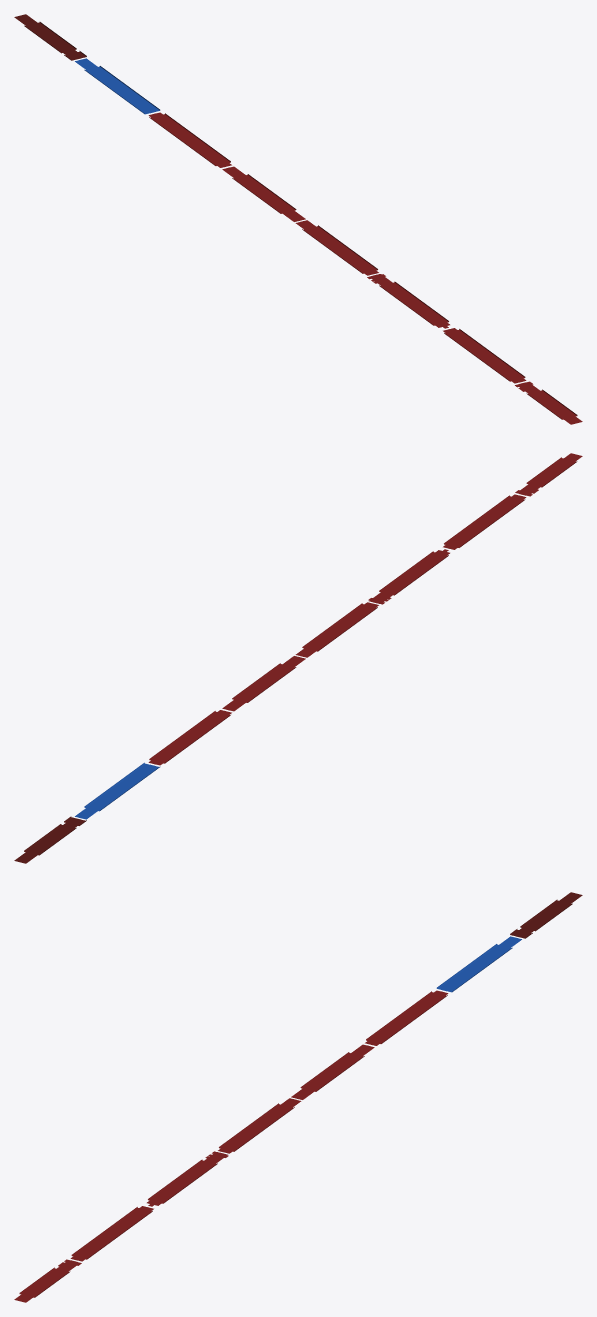
The model's file is demo001.DAE.
The picture shows the model from 3 angles, top to bottom: view 1: azimuth 30°, elevation 25°; view 2: azimuth 150°, elevation 25°; view 3: azimuth 330°, elevation 25°; orthographic projection.
Visible parts, largest first — view 1: p_FloorA01_002, p_FloorA01_006, p_FloorA01_007, p_FloorA01_004, p_FloorA01_003, p_FloorA01_005, p_FloorA01_008, p_FloorA01_001; view 2: p_FloorA01_006, p_FloorA01_002, p_FloorA01_007, p_FloorA01_004, p_FloorA01_003, p_FloorA01_005, p_FloorA01_008, p_FloorA01_001; view 3: p_FloorA01_002, p_FloorA01_006, p_FloorA01_007, p_FloorA01_004, p_FloorA01_003, p_FloorA01_005, p_FloorA01_008, p_FloorA01_001.
Part boxes in pixels (x1,y1,x2,y2): p_FloorA01_002: (443, 328, 526, 383); p_FloorA01_006: (148, 112, 231, 167); p_FloorA01_007: (75, 58, 160, 114); p_FloorA01_004: (295, 220, 378, 275); p_FloorA01_003: (367, 274, 449, 328); p_FloorA01_005: (222, 166, 305, 221); p_FloorA01_008: (14, 14, 86, 60); p_FloorA01_001: (515, 381, 582, 424); p_FloorA01_006: (148, 710, 231, 765); p_FloorA01_002: (443, 494, 526, 549); p_FloorA01_007: (75, 762, 160, 819); p_FloorA01_004: (295, 602, 378, 657); p_FloorA01_003: (368, 549, 449, 604); p_FloorA01_005: (222, 656, 305, 711); p_FloorA01_008: (14, 816, 86, 863); p_FloorA01_001: (515, 453, 582, 496); p_FloorA01_002: (70, 1206, 153, 1261); p_FloorA01_006: (365, 990, 448, 1045); p_FloorA01_007: (436, 936, 521, 992); p_FloorA01_004: (218, 1098, 301, 1153); p_FloorA01_003: (147, 1151, 228, 1206); p_FloorA01_005: (291, 1044, 374, 1099); p_FloorA01_008: (510, 892, 582, 938); p_FloorA01_001: (14, 1259, 81, 1302).
Bounding box in the file's own units: 3110 × 184 × 188496.
